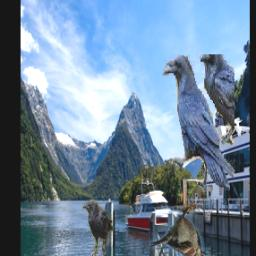Crow: (163, 54, 235, 192), (82, 201, 114, 256)
Sparrow: (149, 205, 206, 256)
